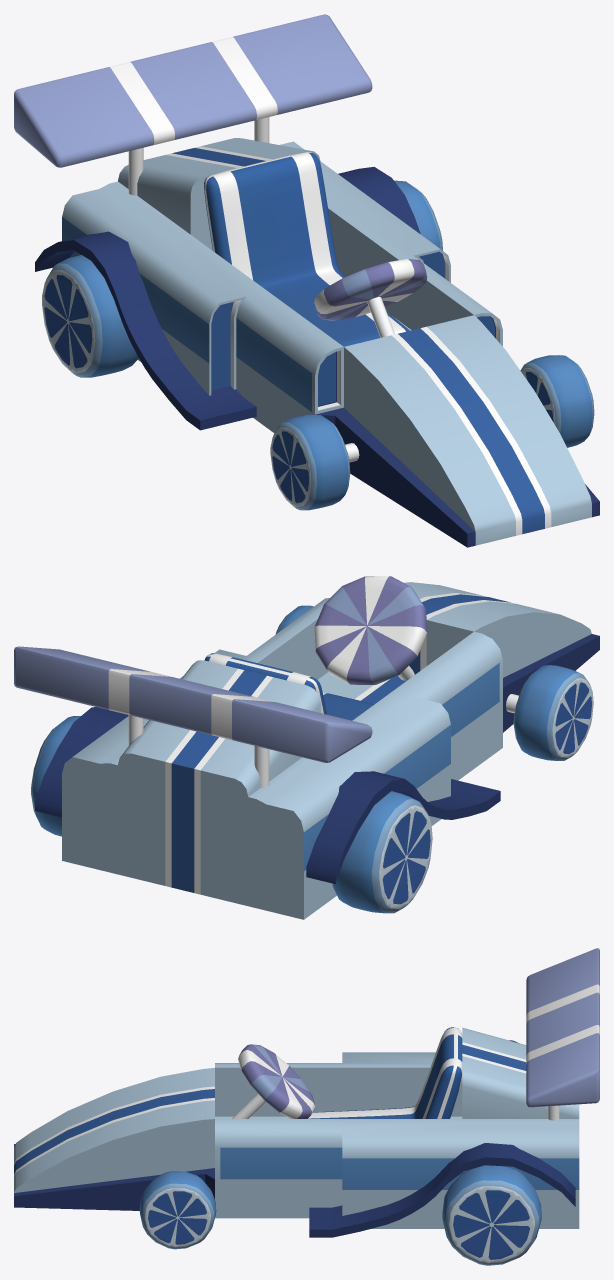
Rendered from cw_car15.fbx.
3 views of the same model, one above another, from view 1: azimuth 30°, elevation 25°; view 2: azimuth 150°, elevation 25°; view 3: azimuth 270°, elevation 25° (orthographic). The views are drawn at different scales.
Parts seen in each view (by area): view 1: cw_car15, w15.002, w15, w15.001, w15.003; view 2: cw_car15, w15.002, w15, w15.003; view 3: cw_car15, w15.003, w15.001.
Part boxes in pixels (x1=…): cw_car15: x1=14, y1=14, x2=599, y2=547; w15.002: x1=42, y1=255, x2=138, y2=377; w15: x1=270, y1=414, x2=350, y2=510; w15.001: x1=520, y1=355, x2=594, y2=447; w15.003: x1=394, y1=180, x2=442, y2=250; cw_car15: x1=14, y1=576, x2=599, y2=919; w15.002: x1=332, y1=791, x2=432, y2=913; w15: x1=513, y1=665, x2=593, y2=760; w15.003: x1=31, y1=716, x2=80, y2=836; cw_car15: x1=14, y1=948, x2=599, y2=1237; w15.003: x1=442, y1=1165, x2=541, y2=1265; w15.001: x1=139, y1=1171, x2=216, y2=1249.
Bounding box in the file's own units: 115 × 74.26 × 207.
